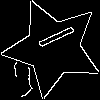I: (28, 23, 76, 55)
